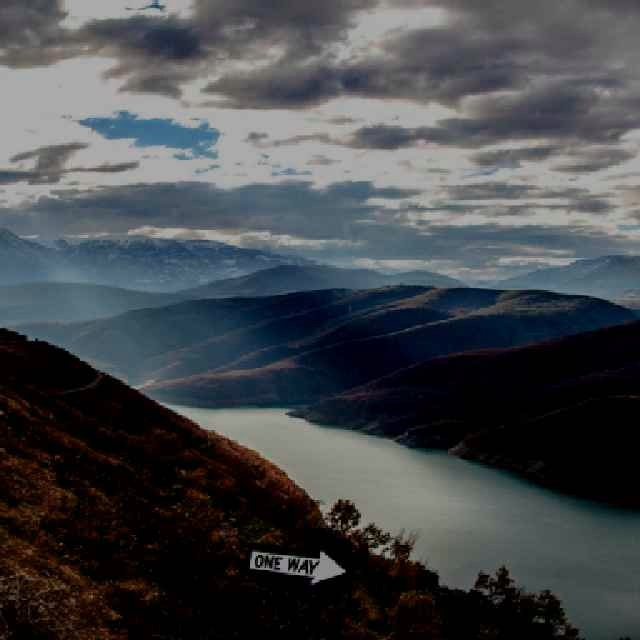ONE_WAY_ right: (242, 540, 361, 589)
